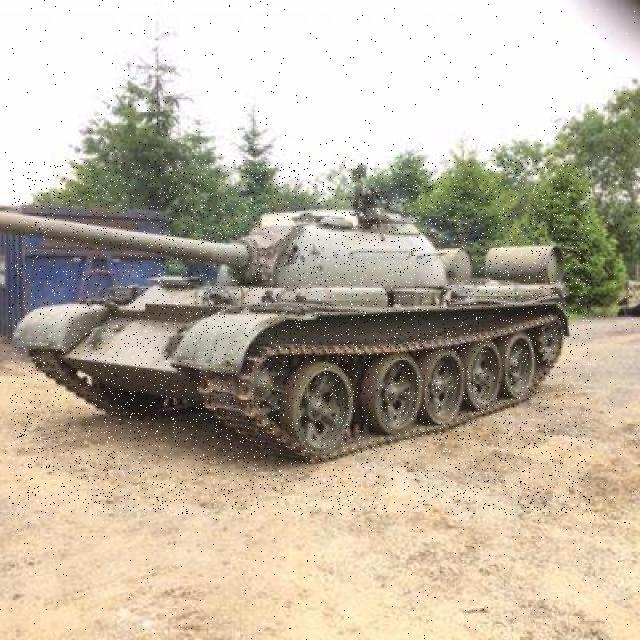MIL_MBT: (9, 160, 590, 515)
